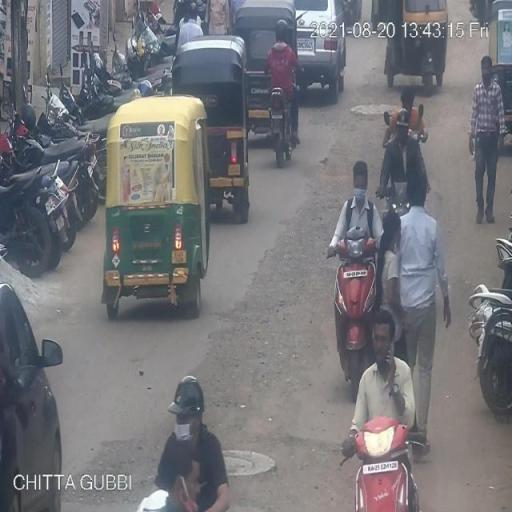using mobile: (386, 332, 398, 384)
